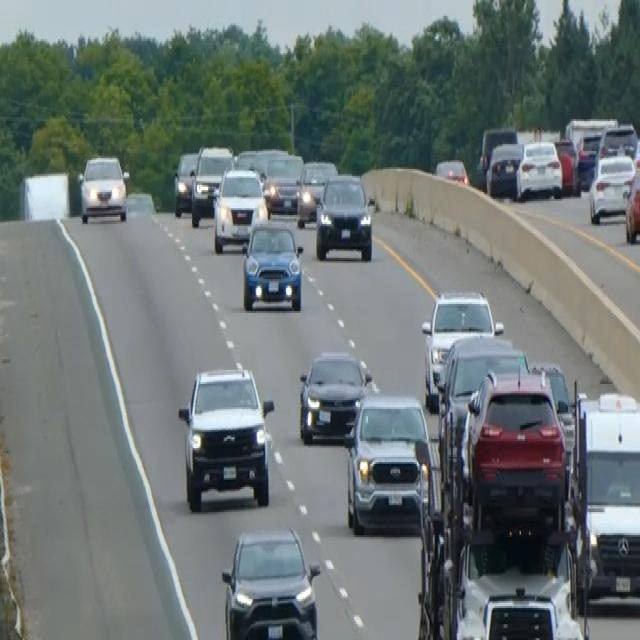car: (460, 366, 568, 539), (435, 331, 528, 487), (343, 391, 437, 535), (220, 524, 321, 638), (420, 288, 503, 411), (298, 348, 377, 444), (240, 217, 304, 311), (315, 171, 374, 261), (211, 165, 268, 252), (529, 359, 575, 457), (77, 153, 129, 224), (189, 144, 234, 226), (588, 151, 636, 224), (515, 137, 563, 199), (296, 158, 338, 228), (476, 124, 518, 185), (262, 151, 303, 213), (485, 139, 522, 197), (235, 146, 287, 183), (172, 149, 199, 215), (597, 121, 638, 160), (554, 135, 580, 194), (575, 130, 601, 188), (624, 164, 639, 244), (434, 156, 469, 185)
jeep: (176, 363, 275, 512)
lorry: (450, 524, 586, 638)
minibus: (568, 388, 639, 610)
